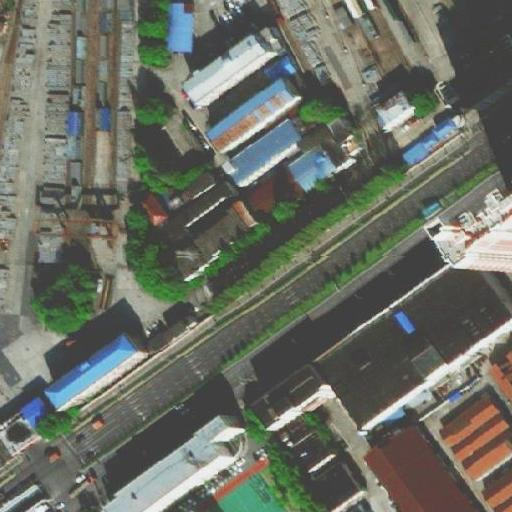building: (313, 274, 484, 422), (114, 408, 266, 512), (366, 422, 487, 511), (203, 78, 302, 168), (180, 27, 282, 113), (46, 330, 151, 412), (180, 193, 274, 273), (436, 391, 511, 478), (228, 117, 306, 187), (251, 365, 333, 431), (305, 457, 363, 510), (174, 181, 234, 231), (399, 118, 456, 169), (143, 304, 201, 350), (374, 93, 422, 135), (294, 150, 338, 191), (2, 417, 43, 458), (25, 393, 66, 434), (177, 168, 219, 205), (168, 1, 196, 53), (165, 253, 203, 287), (264, 49, 300, 84), (336, 127, 370, 160), (323, 138, 355, 173), (139, 194, 170, 229), (493, 344, 512, 394), (162, 190, 187, 214)
